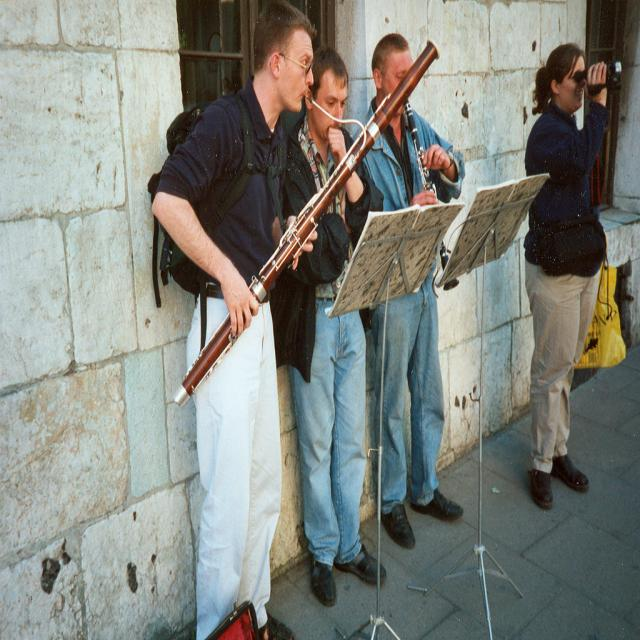clarinet: (403, 100, 464, 290)
